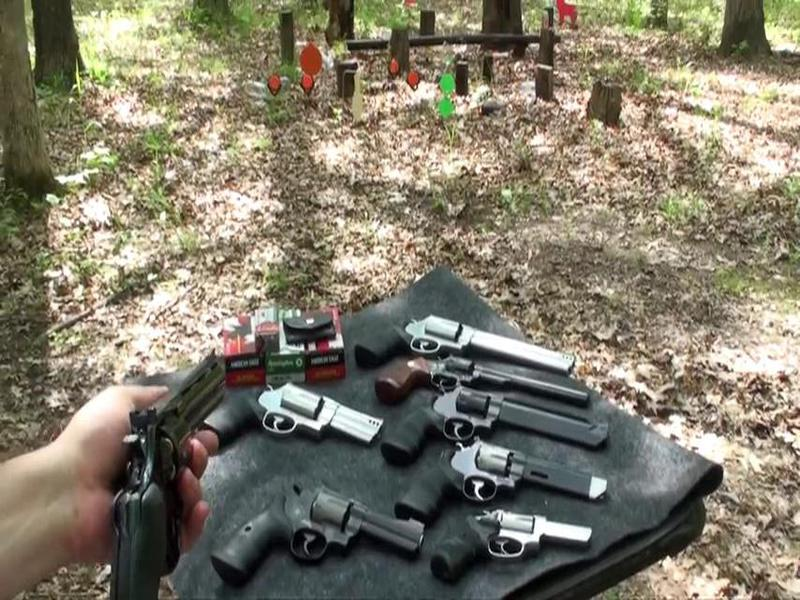Revolver: (121, 313, 243, 597)
